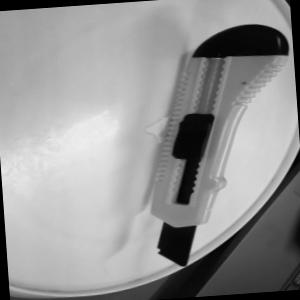estilete: (136, 20, 300, 267)
